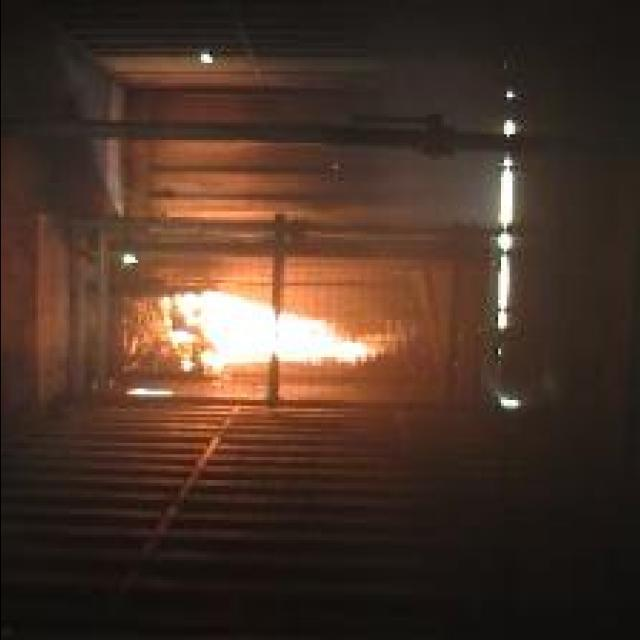Fire: (157, 294, 386, 374)
